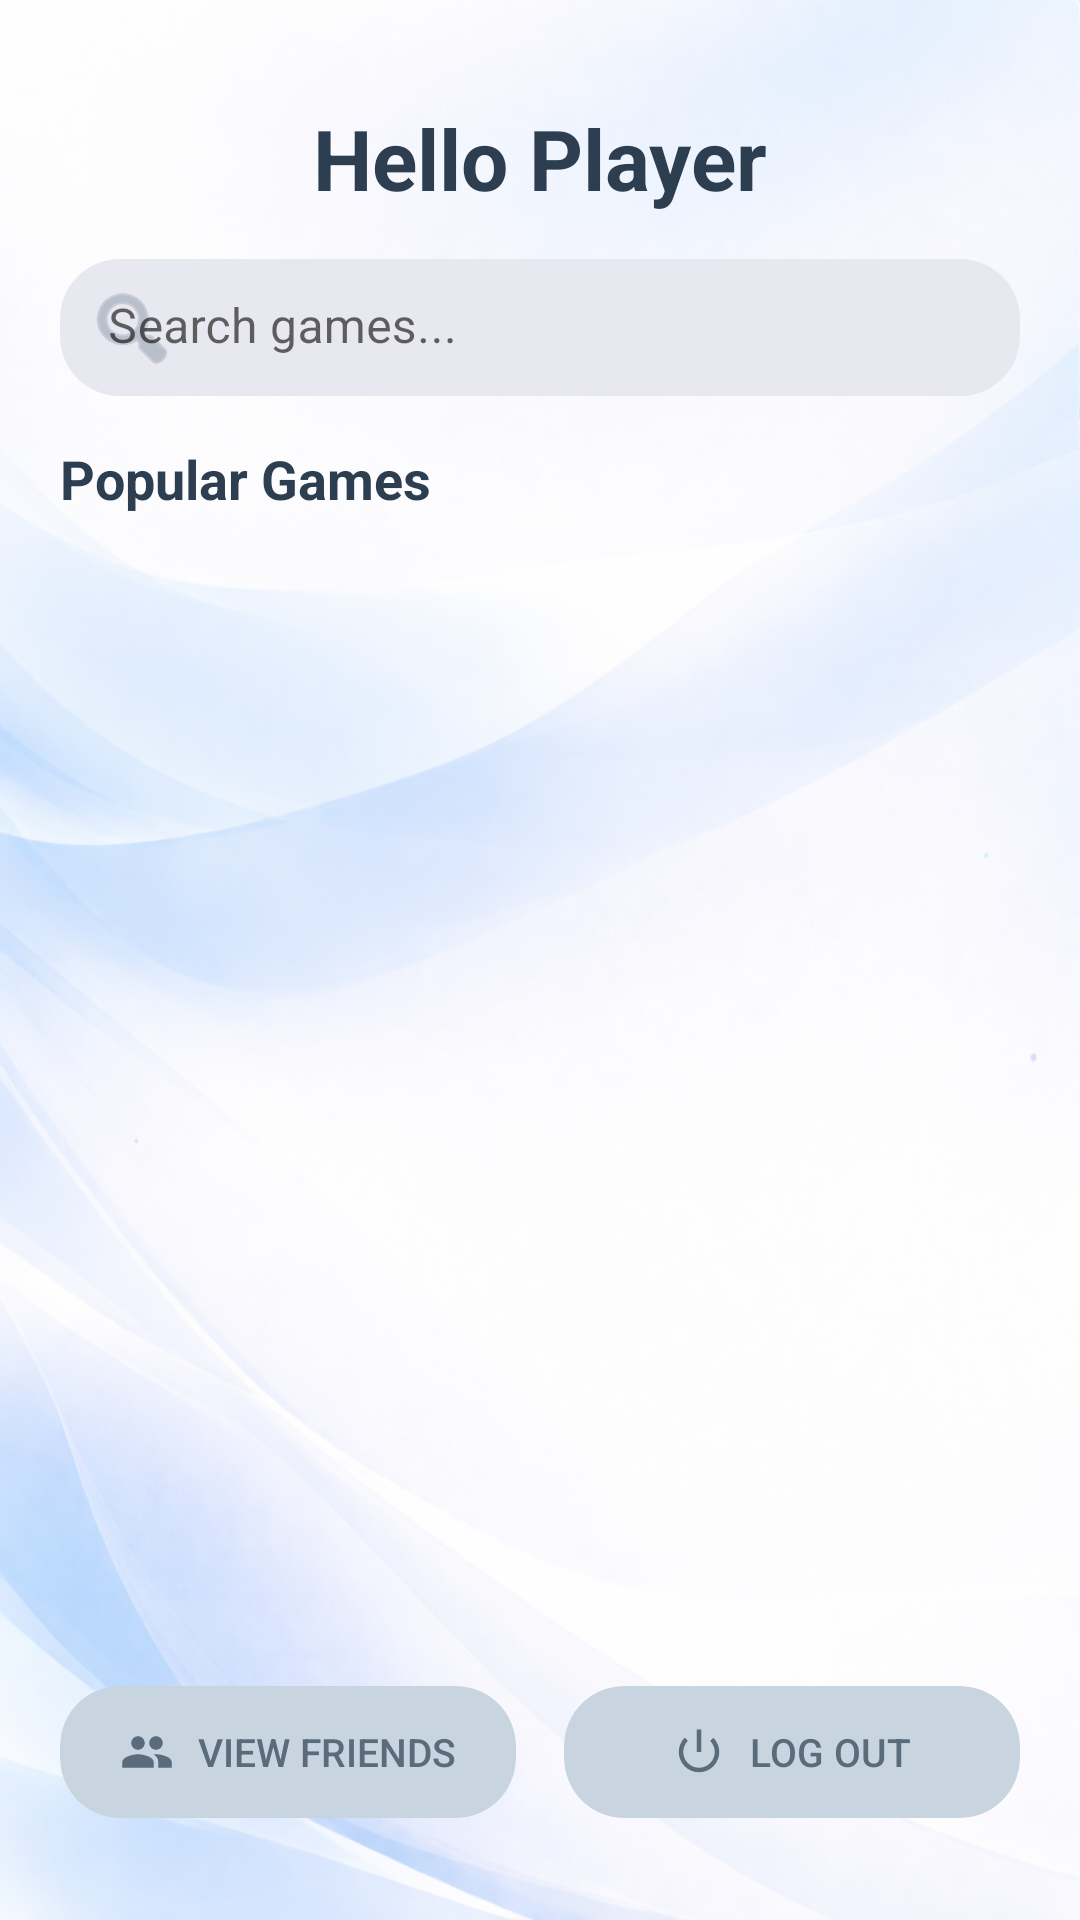

Named icons in this screenshot (1080x1920) and their centers, [x,y]:
lock power off: [699,1751]
